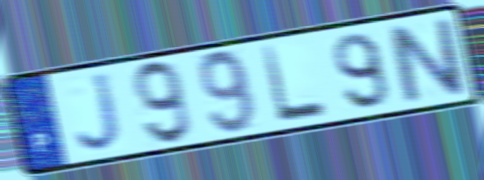9: (198, 47, 260, 139), (131, 59, 194, 148), (330, 31, 393, 110)
J: (73, 69, 126, 155)
L: (257, 42, 331, 127)
N: (382, 14, 471, 106)
